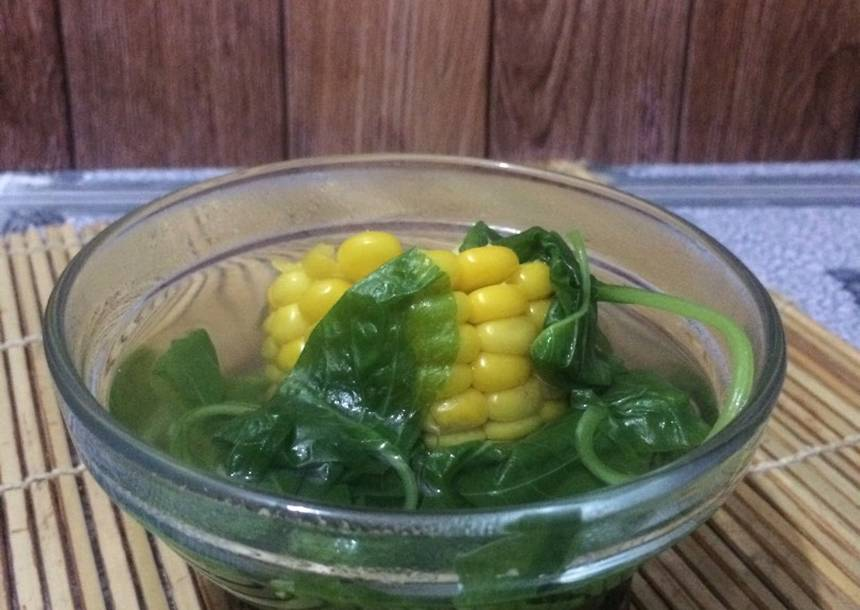Sayur Bayam: (123, 127, 723, 533)
